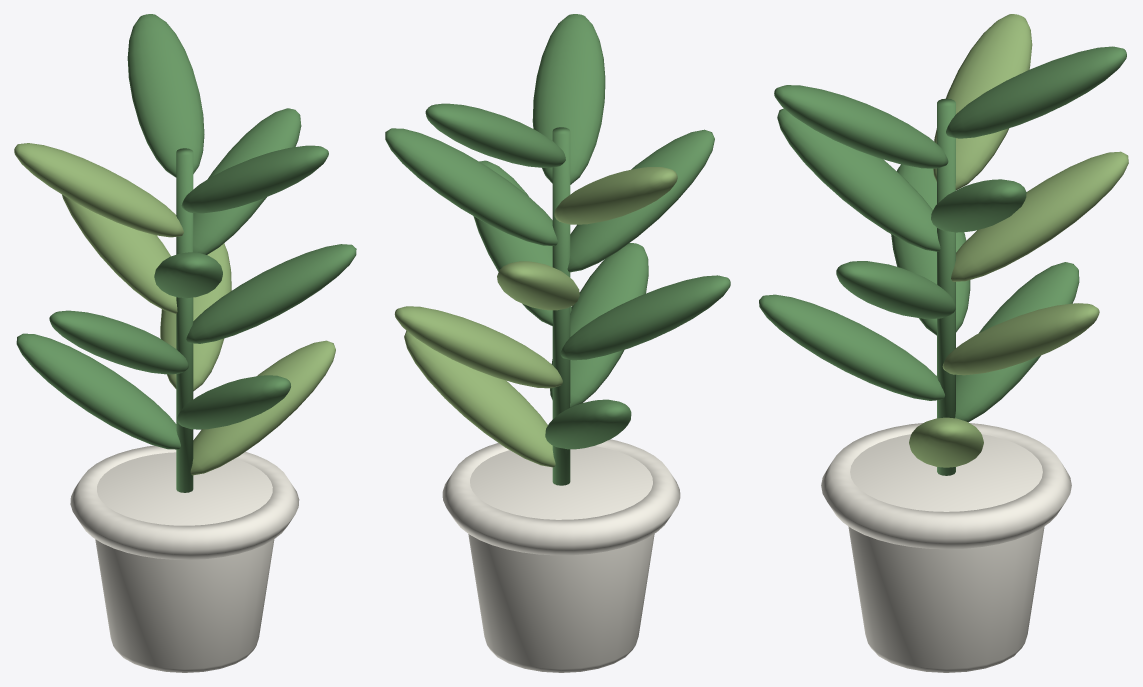
File: atelier-small-potted-plant.glb
3 renders of one model, left to right at view 1: azimuth 30°, elevation 25°; view 2: azimuth 150°, elevation 25°; view 3: azimuth 270°, elevation 25°, orthographic. The views are drawn at different scales.
Visible parts, largest first — view 1: leaf, ceramic.036, leafLight; view 2: leaf, ceramic.036, leafLight; view 3: leaf, ceramic.036, leafLight.
Boxes of the visible parts, left/top/right/bottom form: leaf: left=16, top=14, right=356, bottom=492; ceramic.036: left=70, top=445, right=299, bottom=672; leafLight: left=14, top=143, right=335, bottom=475; leaf: left=385, top=14, right=730, bottom=485; ceramic.036: left=442, top=439, right=680, bottom=672; leafLight: left=394, top=167, right=677, bottom=467; leaf: left=759, top=46, right=1126, bottom=475; ceramic.036: left=821, top=423, right=1071, bottom=672; leafLight: left=909, top=14, right=1128, bottom=467.
Bounding box in the file's own units: 0.2979 × 0.5417 × 0.2949.
